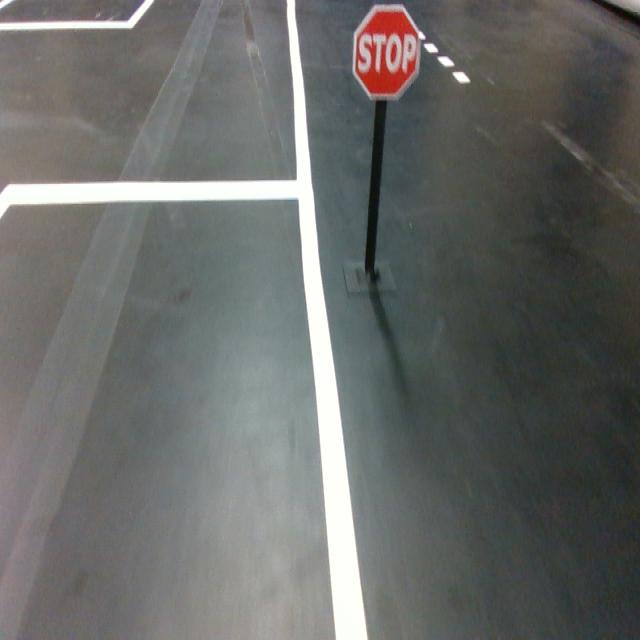stop-sign: (352, 4, 420, 102)
